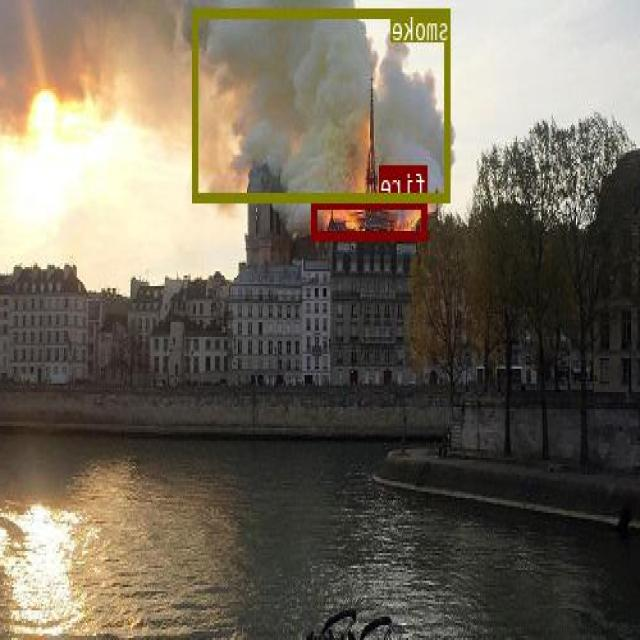fire: (313, 198, 428, 239)
smoke: (194, 7, 451, 201)
